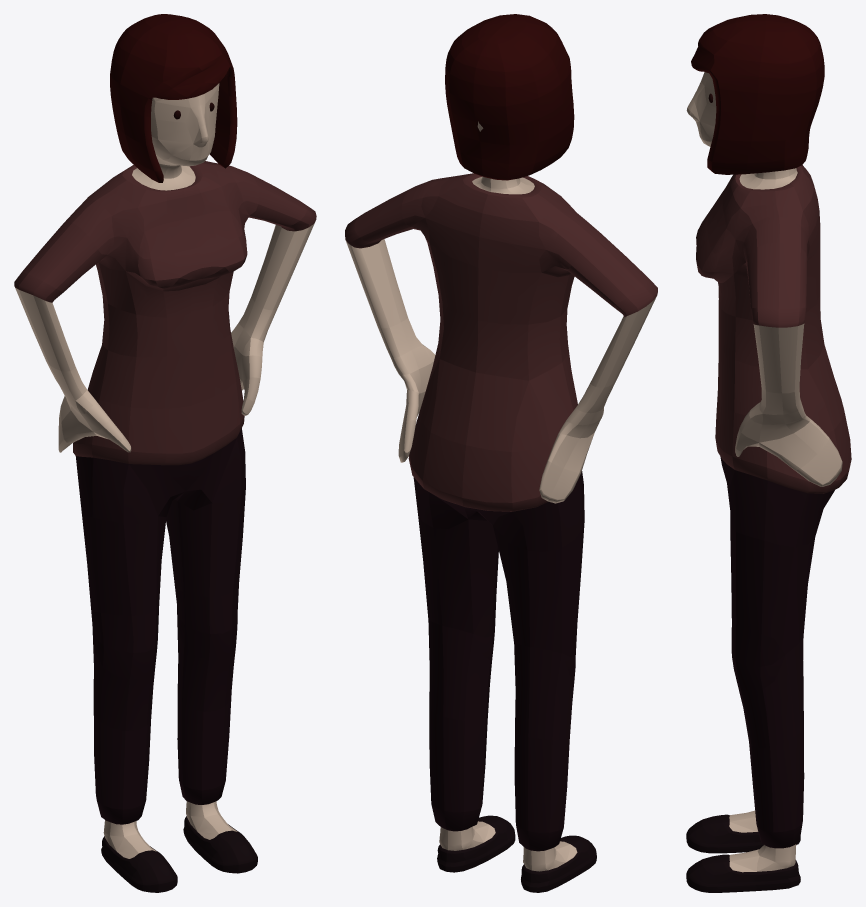
File: pessoa_m_conversando.glb
3 views of the same model, side by side, from view 1: azimuth 30°, elevation 25°; view 2: azimuth 150°, elevation 25°; view 3: azimuth 270°, elevation 25° (orthographic).
Parts seen in each view (by area): view 1: pessoa_m_conversando; view 2: pessoa_m_conversando; view 3: pessoa_m_conversando.
Part boxes in pixels (left/top/right/bottom): pessoa_m_conversando: left=14, top=14, right=316, bottom=892; pessoa_m_conversando: left=345, top=14, right=657, bottom=892; pessoa_m_conversando: left=686, top=14, right=851, bottom=892.
Bounding box in the file's own units: 0.6272 × 1.68 × 0.2988.
1 material, 1 textured.
